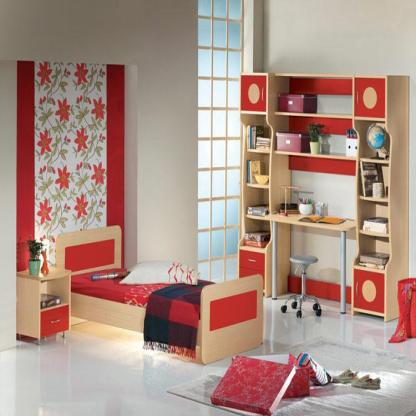other: (28, 70, 116, 215), (75, 263, 199, 321), (227, 347, 308, 405), (208, 290, 261, 328), (392, 275, 414, 342), (353, 74, 386, 118), (238, 74, 266, 110), (40, 306, 72, 336), (64, 245, 110, 265)
